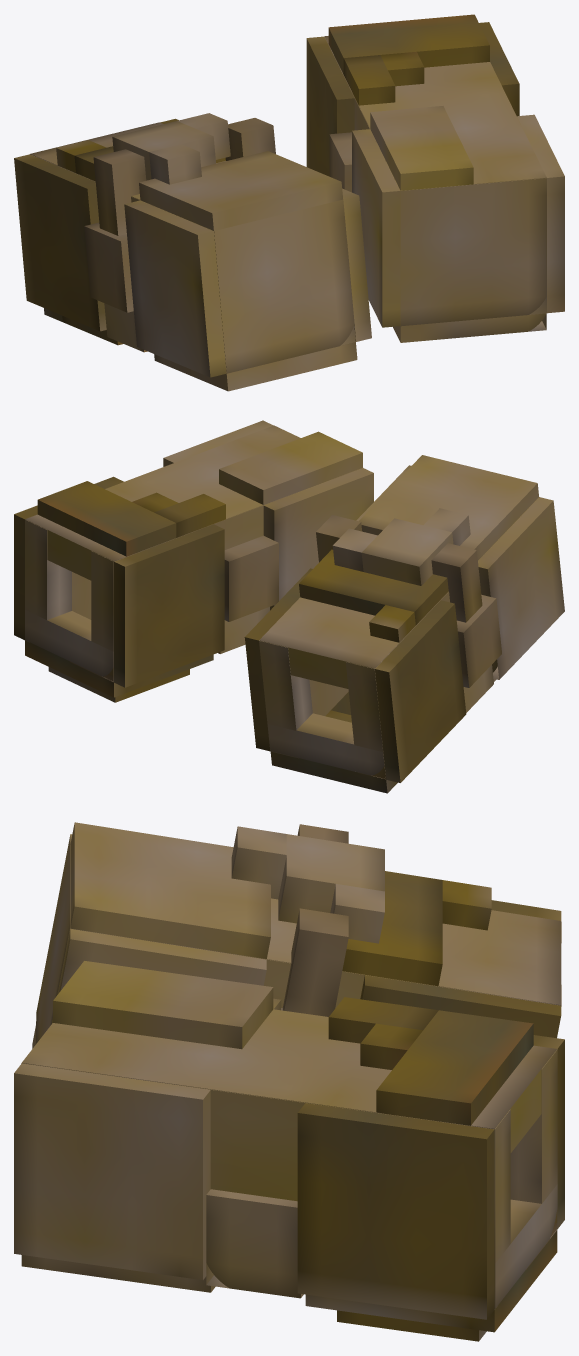
The model's file is t60_leggings_broken.obj.
3 views of the same model, one above another, from view 1: azimuth 30°, elevation 25°; view 2: azimuth 150°, elevation 25°; view 3: azimuth 270°, elevation 25° (orthographic). The views are drawn at different scales.
Parts seen in each view (by area): view 1: LeftLeg.004; view 2: LeftLeg.004; view 3: LeftLeg.004.
Boxes of the visible parts, left/top/right/bottom form: LeftLeg.004: left=14, top=14, right=564, bottom=391; LeftLeg.004: left=14, top=420, right=564, bottom=793; LeftLeg.004: left=14, top=822, right=564, bottom=1341.
Bounding box in the file's own units: 0.8779 × 0.4235 × 0.6915.
